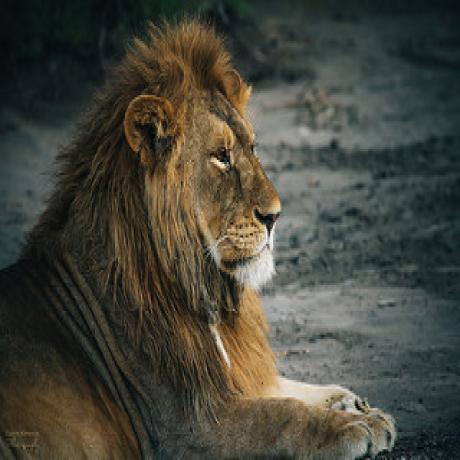Lion: (0, 3, 399, 460)
